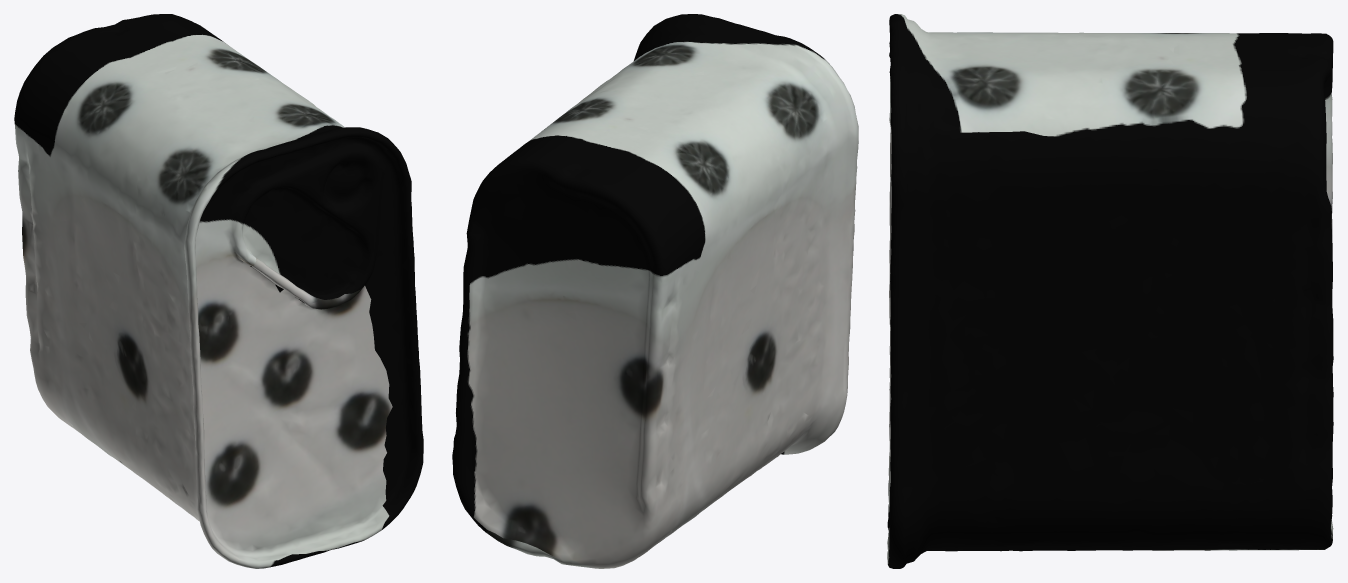
3 views of the same model, side by side, from view 1: azimuth 30°, elevation 25°; view 2: azimuth 150°, elevation 25°; view 3: azimuth 270°, elevation 25° (orthographic). The views are drawn at different scales.
Parts seen in each view (by area): view 1: textured.009; view 2: textured.009; view 3: textured.009.
Part boxes in pixels (x1=…): textured.009: x1=14, y1=14, x2=423, y2=568; textured.009: x1=452, y1=14, x2=858, y2=568; textured.009: x1=887, y1=14, x2=1333, y2=568.
Bounding box in the file's own units: 0.0601 × 0.1021 × 0.0835.
